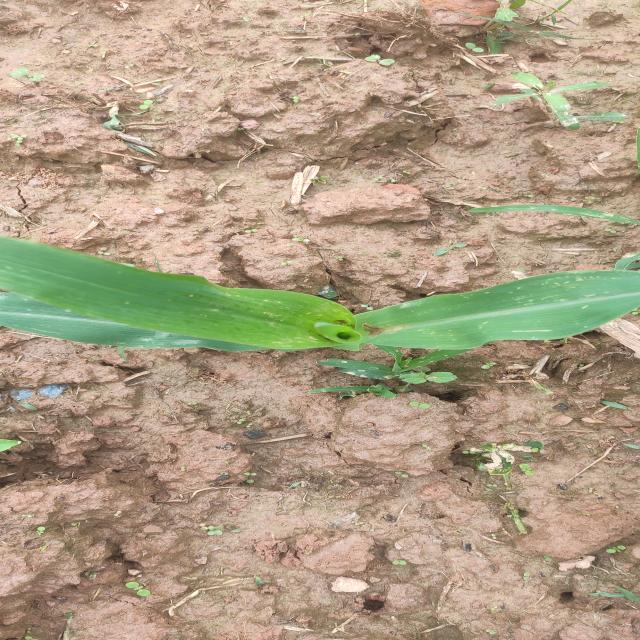maize: (0, 206, 640, 370)
weed: (304, 341, 482, 393), (512, 68, 639, 134), (452, 0, 600, 56), (449, 434, 566, 480), (465, 204, 640, 227)
